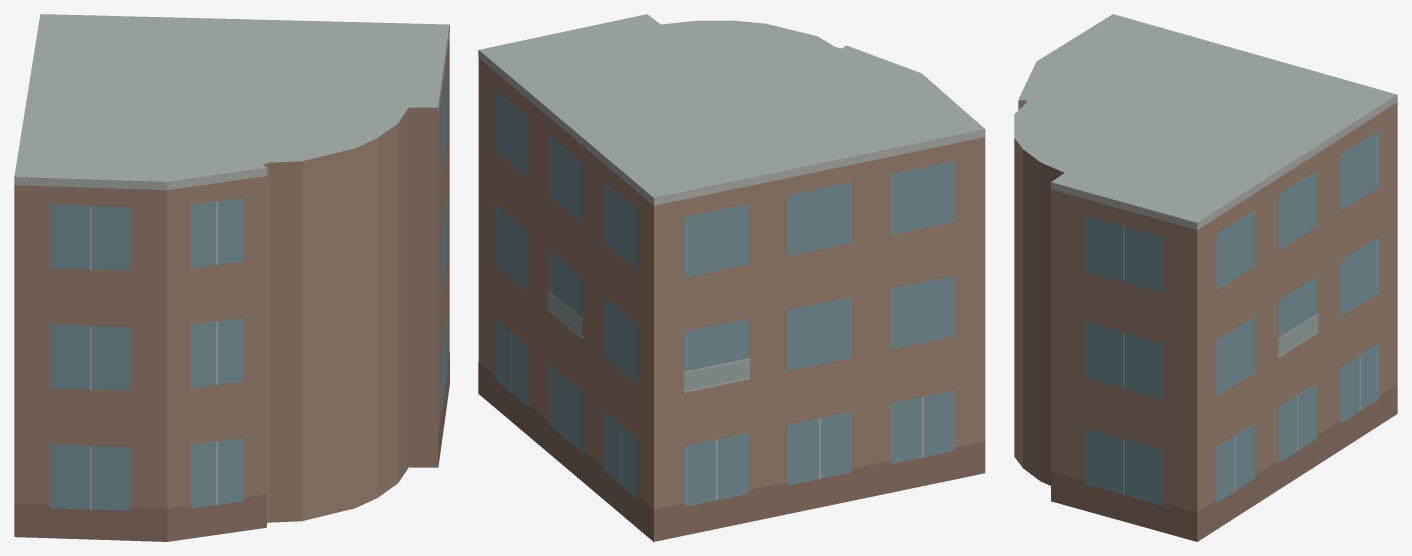
Rendered from survey-upis-32679403.glb.
3 renders of one model, left to right at view 1: azimuth 30°, elevation 25°; view 2: azimuth 150°, elevation 25°; view 3: azimuth 270°, elevation 25°, orthographic. The views are drawn at different scales.
Visible parts, largest first — view 1: survey-upis-32679403.tmp; view 2: survey-upis-32679403.tmp; view 3: survey-upis-32679403.tmp.
Part boxes in pixels (bbox=[...]): survey-upis-32679403.tmp: bbox=[14, 14, 449, 541]; survey-upis-32679403.tmp: bbox=[478, 14, 985, 541]; survey-upis-32679403.tmp: bbox=[1014, 14, 1397, 541].
Bounding box in the file's own units: 14.96 × 10.65 × 11.6.
